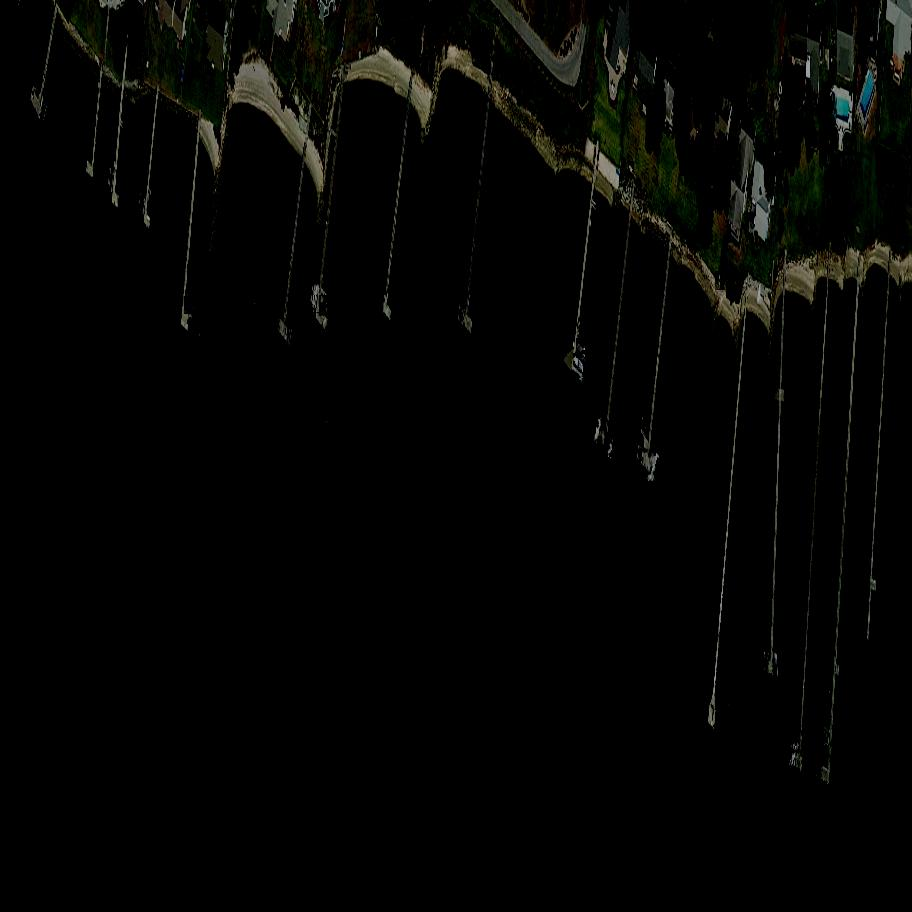ship: (603, 432, 619, 463), (568, 354, 589, 377), (646, 454, 660, 484), (593, 415, 605, 449), (315, 296, 333, 316), (788, 744, 801, 770), (309, 284, 321, 312), (715, 271, 724, 290), (627, 161, 636, 177), (185, 296, 193, 314), (779, 76, 783, 107), (577, 338, 583, 358), (757, 283, 762, 304), (772, 649, 774, 678)
